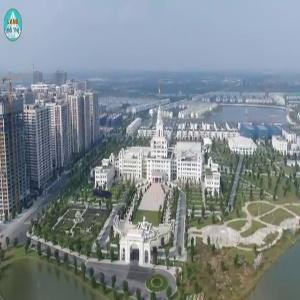drone: (80, 165, 132, 217)
